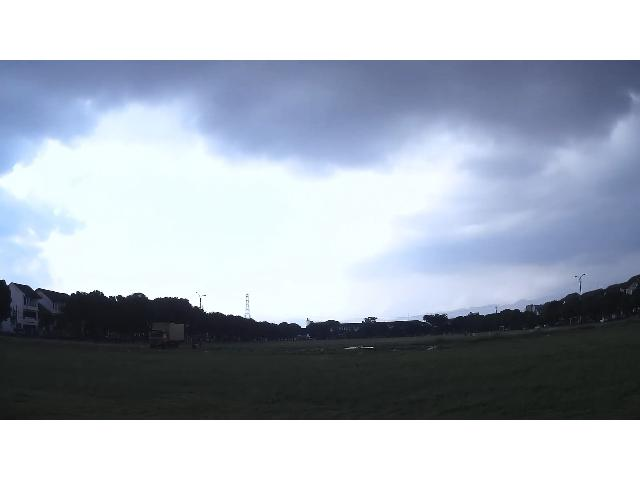Anti-Drone: (344, 346, 374, 349)
